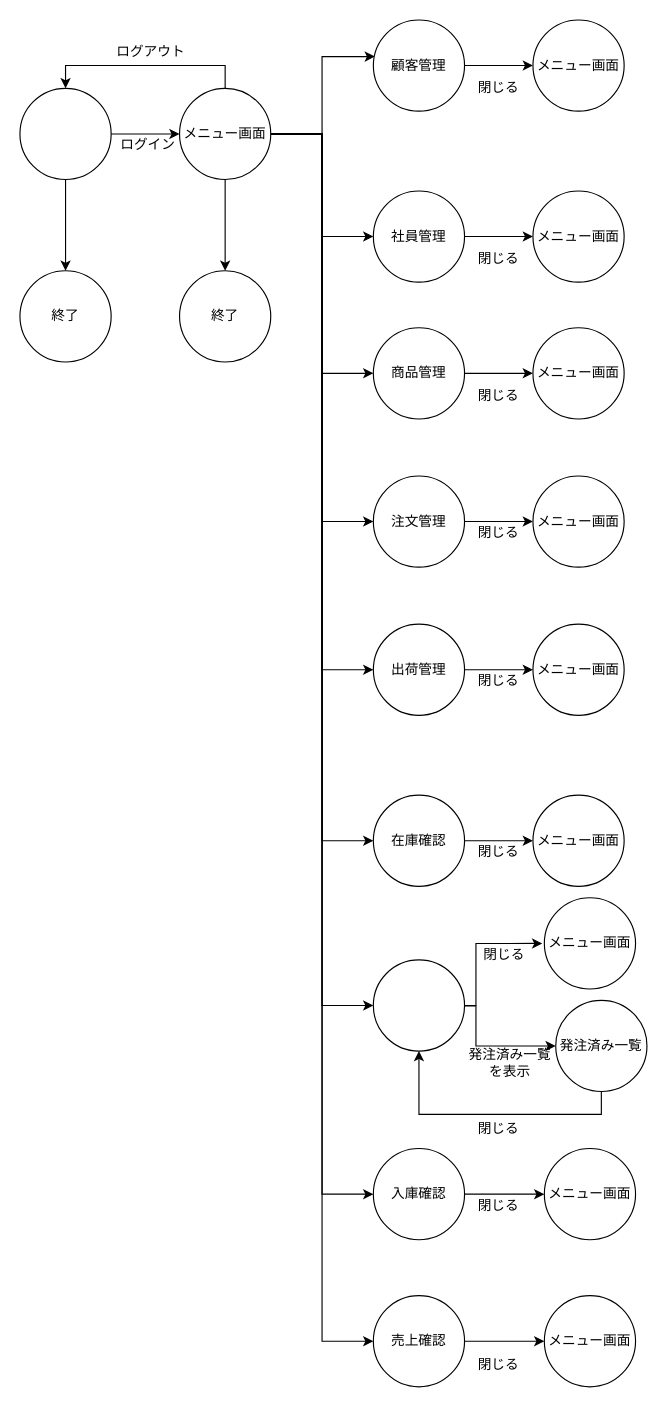
This 667x1407 diagram has some shape labels left out. Here are the shapes that lost their labels. From the top down, the centre of each, then its label:
At point 65,133: "ログイン画面".
At point 418,1005: "発注確認".
